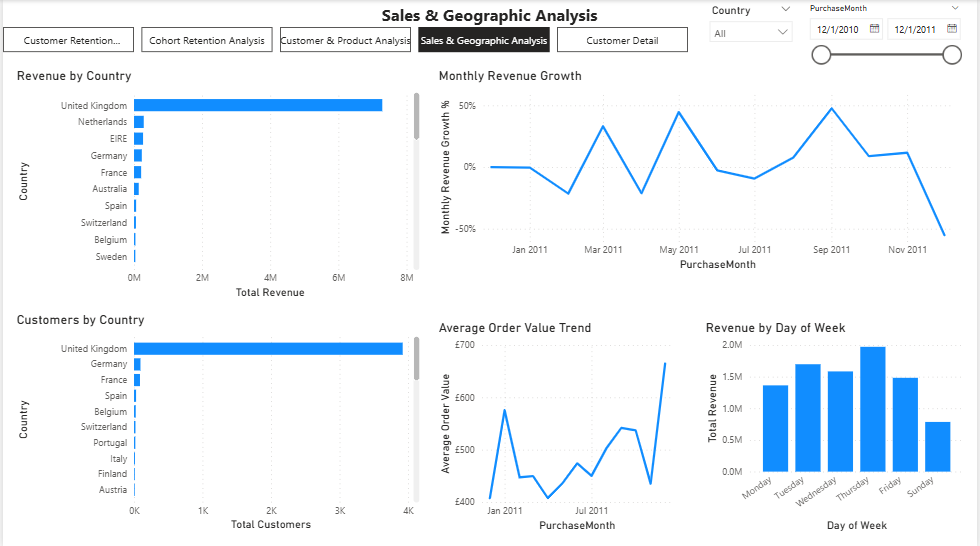

This screenshot's page, from the dashboard's own definition file:
{"tool":"powerbi","page":{"name":"Sales & Geographic Analysis","canvas":[1280,720],"ordinal":3},"visuals":[{"type":"barChart","title":"Revenue by Country","fields":{"Category":["customer_retention_powerbi.Country"],"Y":["All Measures.Total Revenue"]},"box":[13.4,89,539.2,307.4],"z":0},{"type":"barChart","title":"Customers by Country","fields":{"Category":["customer_retention_powerbi.Country"],"Y":["All Measures.Total Customers"]},"box":[13.4,409.9,539.2,292.3],"z":1000},{"type":"lineChart","title":"Monthly Revenue Growth","fields":{"Y":["All Measures.Monthly Revenue Growth %"],"Category":["customer_retention_powerbi.PurchaseMonth"]},"box":[567.8,89,700.5,270.4],"z":2000},{"type":"lineChart","title":"Average Order Value Trend","fields":{"Y":["All Measures.Average Order Value"],"Category":["customer_retention_powerbi.PurchaseMonth"]},"box":[567.8,419.9,329.2,282.2],"z":3000},{"type":"columnChart","title":"Revenue by Day of Week","fields":{"Category":["customer_retention_powerbi.Day of Week"],"Y":["All Measures.Total Revenue"]},"box":[918.8,419.9,349.4,282.2],"z":4000},{"type":"textbox","box":[26.9,0,1226.2,68.9],"z":5000},{"type":"slicer","fields":{"Values":["customer_retention_powerbi.Country"]},"box":[917.8,0,129,61.6],"z":6000},{"type":"slicer","fields":{"Values":["customer_retention_powerbi.PurchaseMonth"]},"box":[1046.9,0,221.4,99.7],"z":7000},{"type":"pageNavigator","box":[0,35.2,904.7,33.7],"z":8000}]}

Visuals, with their boxes on the page's 1280x720 design canvas (x1, y1, x2, y2). These are canvas units, not pixel positions in the 980x546 screenshot, which may show the page scaled, cropped or inside an application window:
"Revenue by Country" barChart: (x1=13, y1=89, x2=553, y2=396)
"Customers by Country" barChart: (x1=13, y1=410, x2=553, y2=702)
"Monthly Revenue Growth" lineChart: (x1=568, y1=89, x2=1268, y2=359)
"Average Order Value Trend" lineChart: (x1=568, y1=420, x2=897, y2=702)
"Revenue by Day of Week" columnChart: (x1=919, y1=420, x2=1268, y2=702)
textbox: (x1=27, y1=0, x2=1253, y2=69)
slicer - customer_retention_powerbi.Country: (x1=918, y1=0, x2=1047, y2=62)
slicer - customer_retention_powerbi.PurchaseMonth: (x1=1047, y1=0, x2=1268, y2=100)
pageNavigator: (x1=0, y1=35, x2=905, y2=69)
